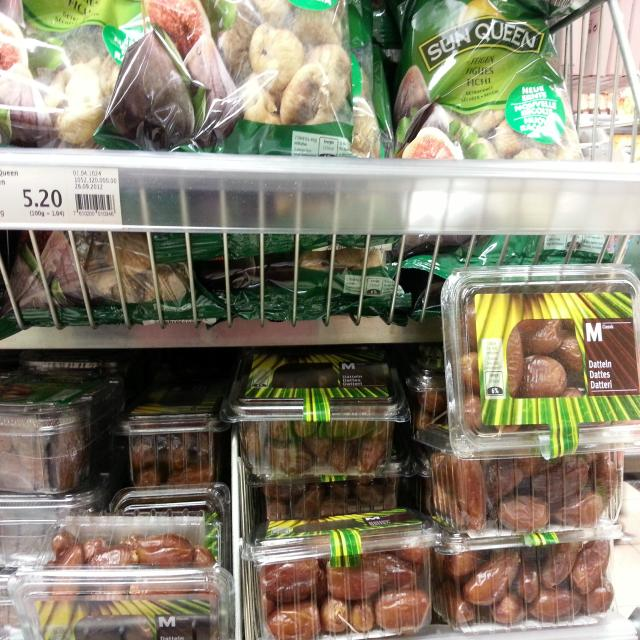DriedFruitsAndNuts: (442, 264, 640, 448), (393, 0, 584, 158), (5, 511, 226, 640), (241, 510, 434, 638), (224, 349, 412, 473), (415, 426, 640, 527), (209, 0, 354, 154), (434, 524, 621, 626), (0, 372, 125, 492), (120, 391, 221, 487)
